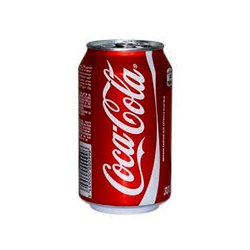can: (75, 36, 173, 216)
